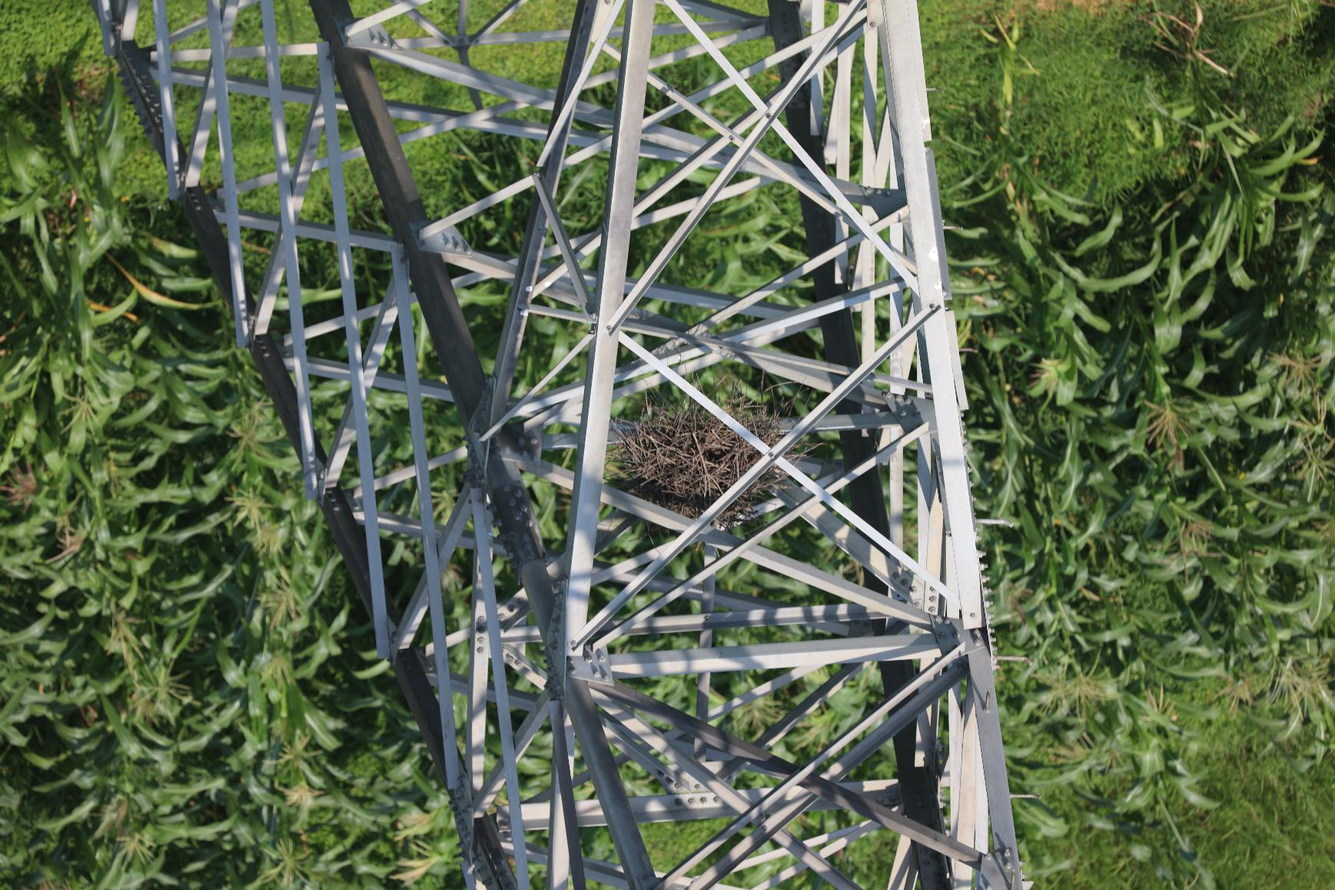nest: (609, 374, 799, 529)
